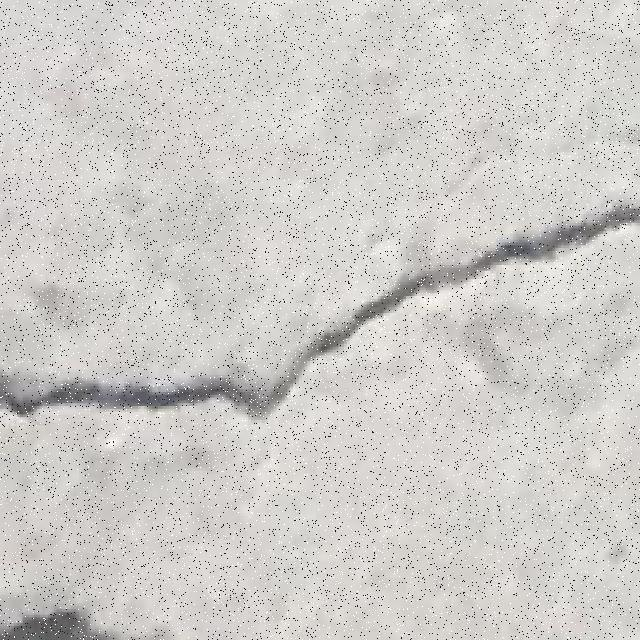crack: (3, 201, 638, 420)
